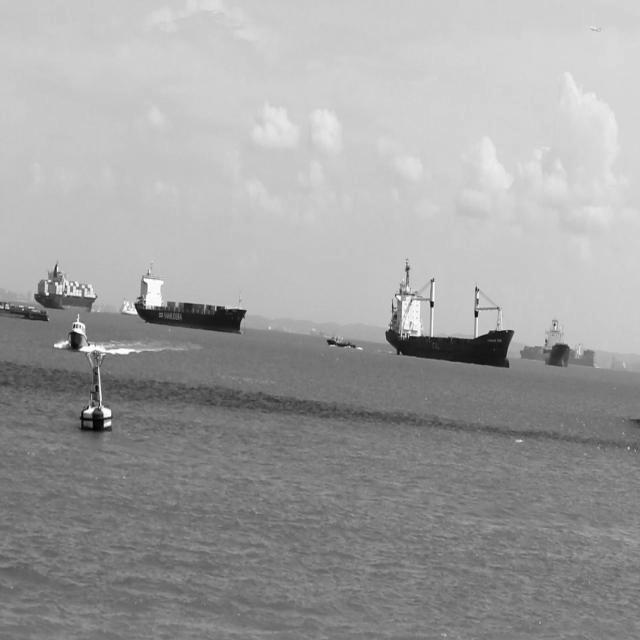buoy: (80, 348, 114, 434)
ship: (384, 255, 516, 368), (134, 260, 248, 335), (34, 259, 98, 314), (519, 342, 595, 368), (543, 318, 571, 368), (0, 300, 49, 322), (67, 315, 89, 350), (326, 332, 356, 350), (120, 298, 138, 316)
